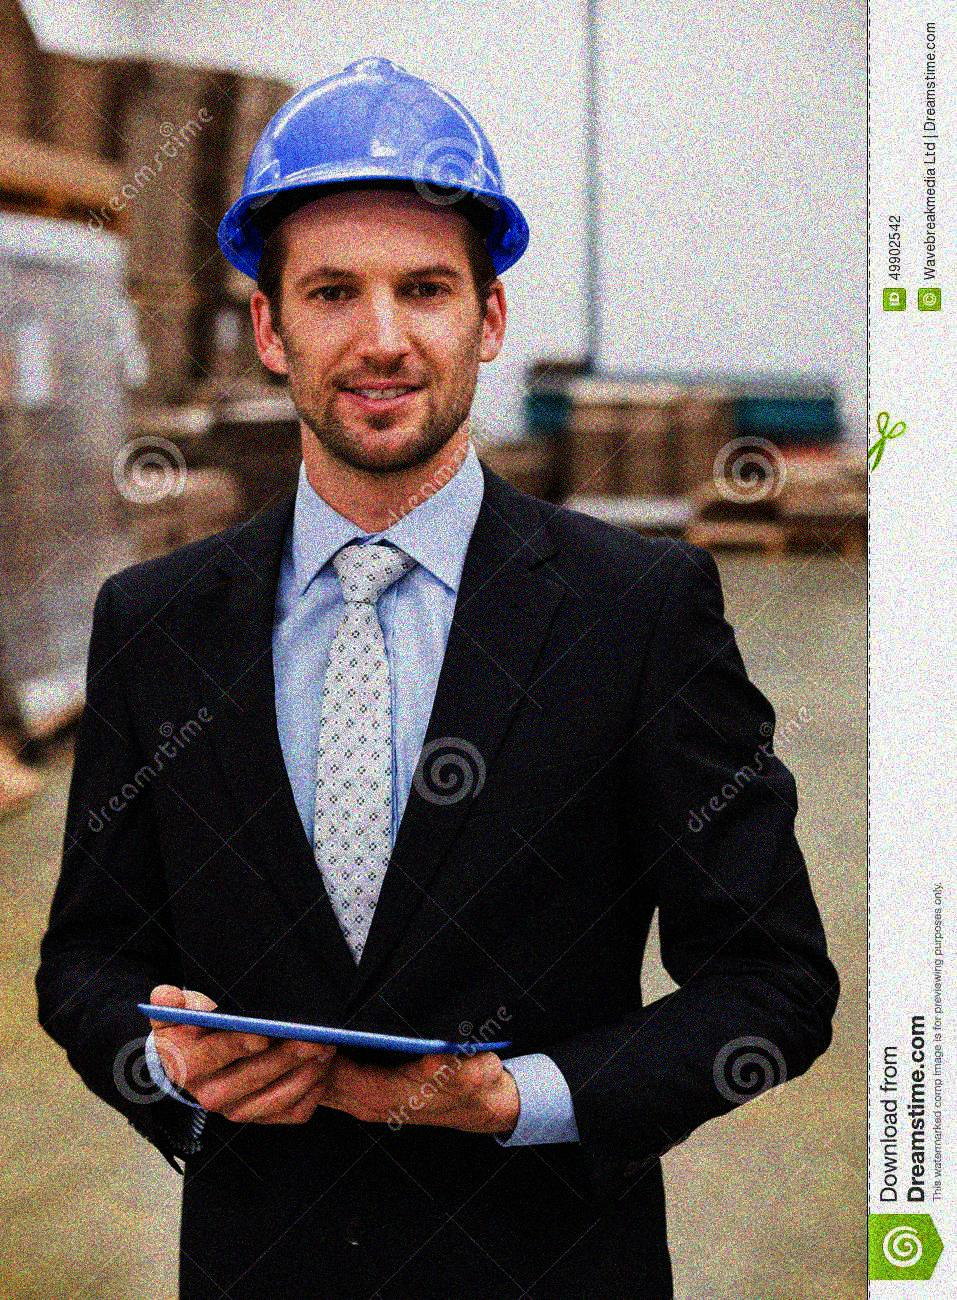helmet: (208, 61, 531, 477)
